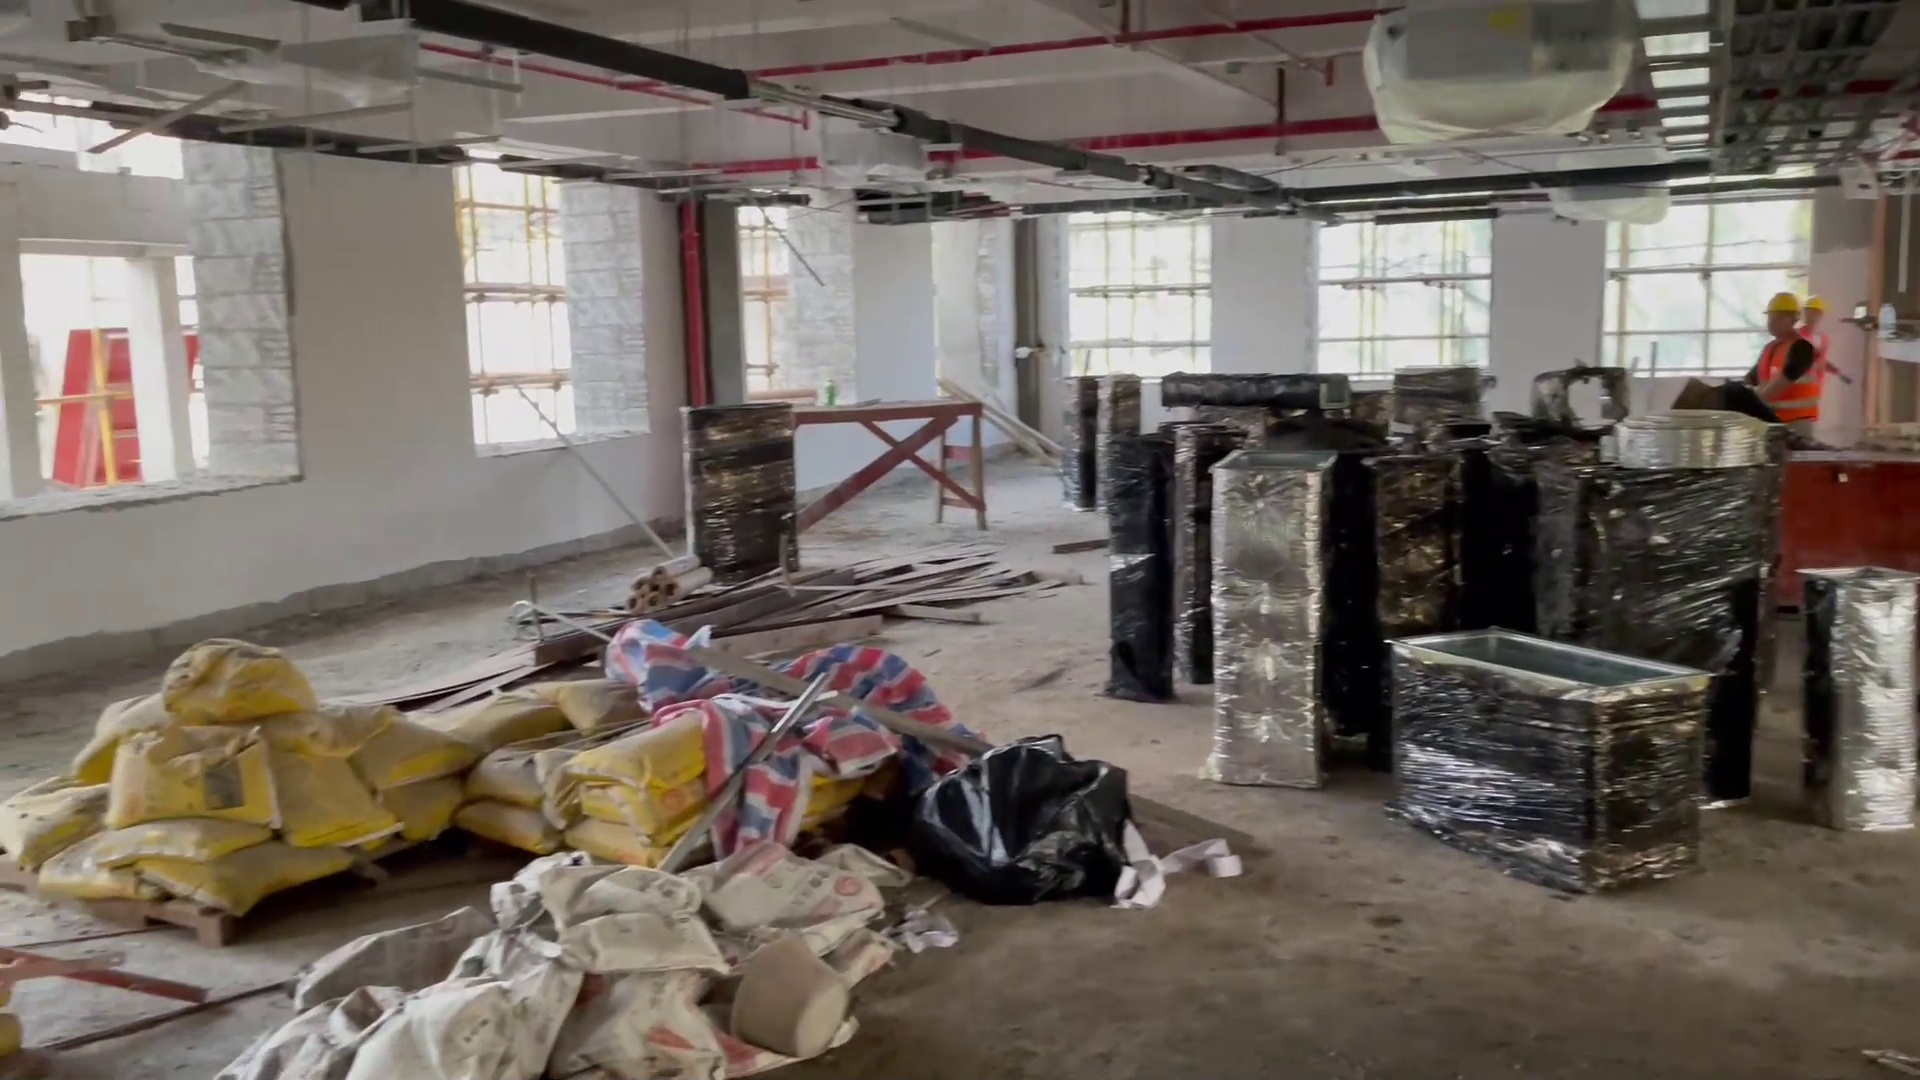helmet: (1761, 287, 1804, 309), (1799, 290, 1829, 314)
person: (1758, 295, 1804, 454), (1797, 282, 1847, 423)
vest: (1795, 328, 1837, 418), (1761, 338, 1807, 417)
